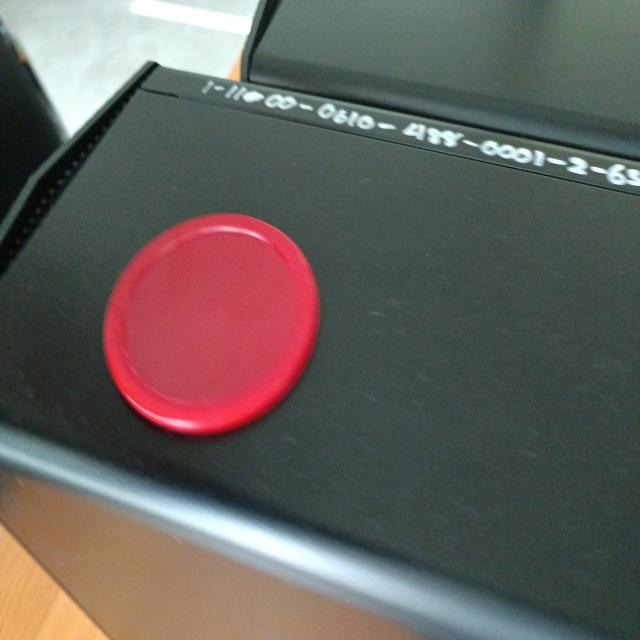chip: (100, 208, 321, 437)
